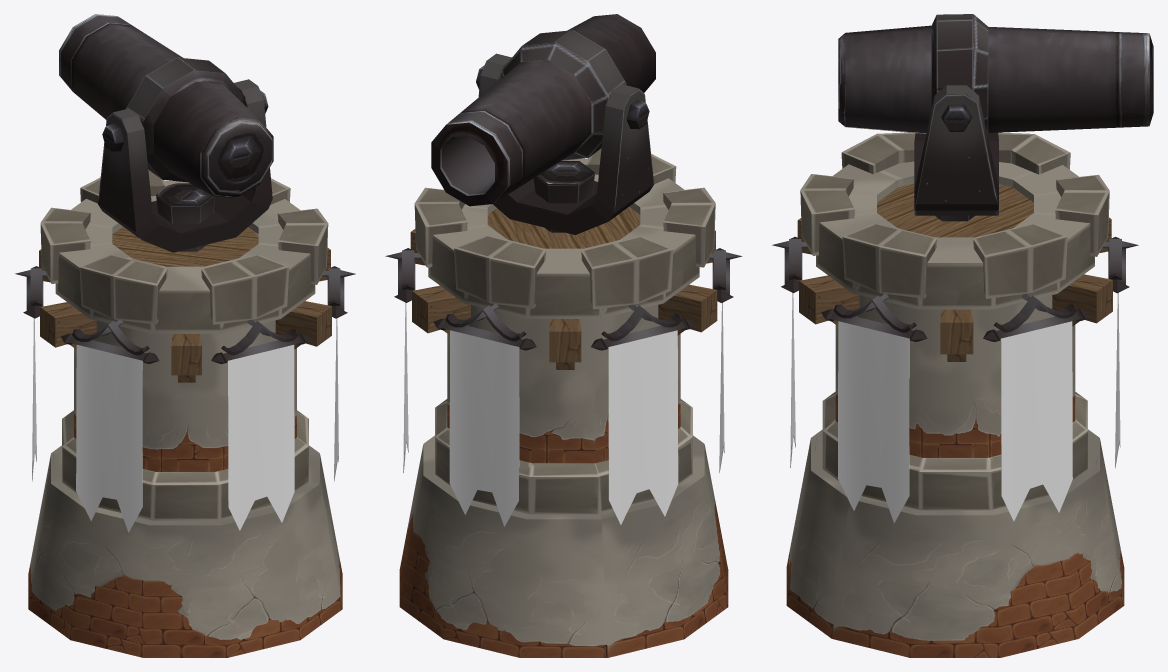
The model's file is Multi_Tower.DAE.
The picture shows the model from 3 angles, left to right: view 1: azimuth 30°, elevation 25°; view 2: azimuth 150°, elevation 25°; view 3: azimuth 270°, elevation 25°; orthographic projection. The views are drawn at different scales.
Parts seen in each view (by area): view 1: Tower, Flags, Tower_Canon, Tower_Head; view 2: Tower, Flags, Tower_Canon, Tower_Head; view 3: Tower, Flags, Tower_Canon, Tower_Head.
Boxes of the visible parts, x1,y1,x2,y2 form: Tower: (28, 170, 342, 657); Flags: (15, 266, 355, 532); Tower_Canon: (59, 14, 273, 198); Tower_Head: (98, 79, 272, 252); Tower: (399, 148, 728, 657); Flags: (385, 248, 742, 526); Tower_Canon: (431, 14, 655, 206); Tower_Head: (476, 53, 654, 234); Tower: (786, 132, 1124, 657); Flags: (772, 236, 1138, 523); Tower_Canon: (838, 14, 1153, 133); Tower_Head: (914, 85, 998, 221).
Bounding box in the file's own units: 1.39 × 2.48 × 1.51.
